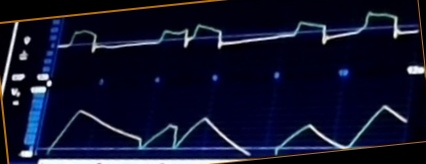Double_Triggering Flow: (68, 12, 420, 64)
Double_Triggering Volume: (48, 99, 406, 158)
